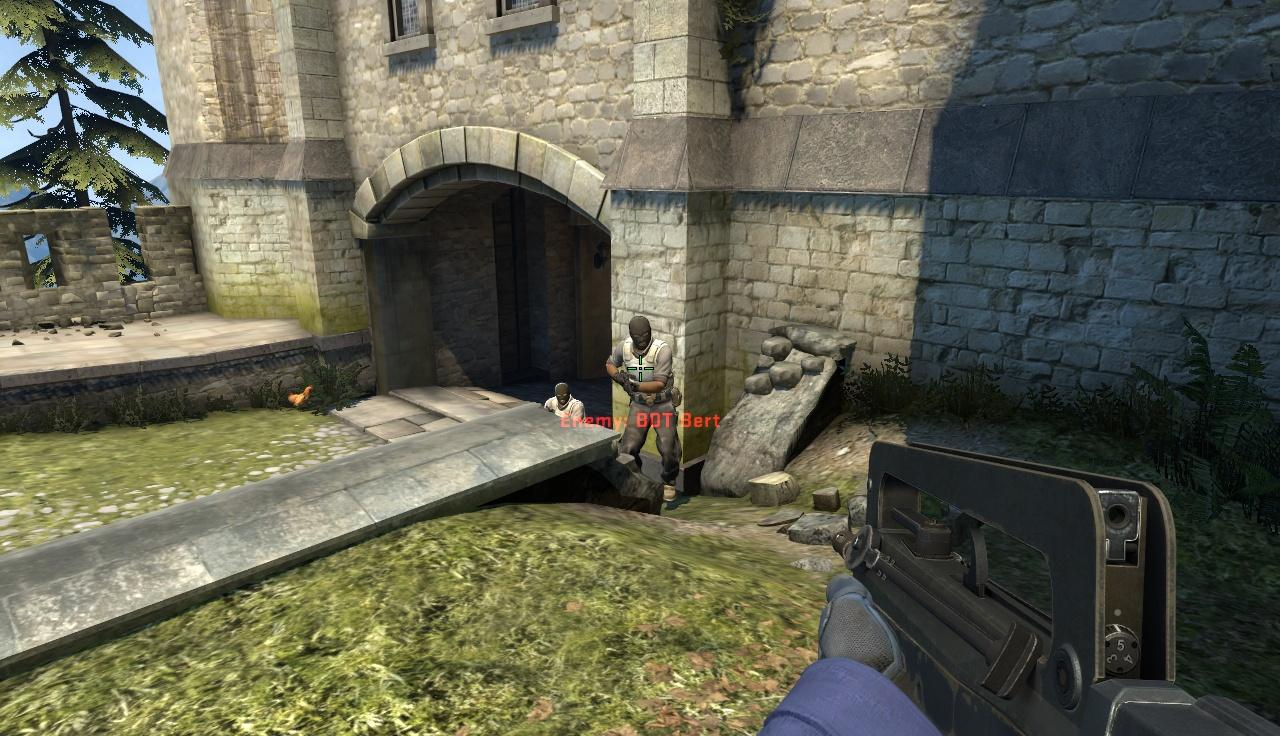rifle: (834, 439, 1280, 736)
tt: (616, 313, 685, 513), (544, 383, 585, 422)
tthead: (631, 315, 654, 349), (554, 382, 570, 404)
